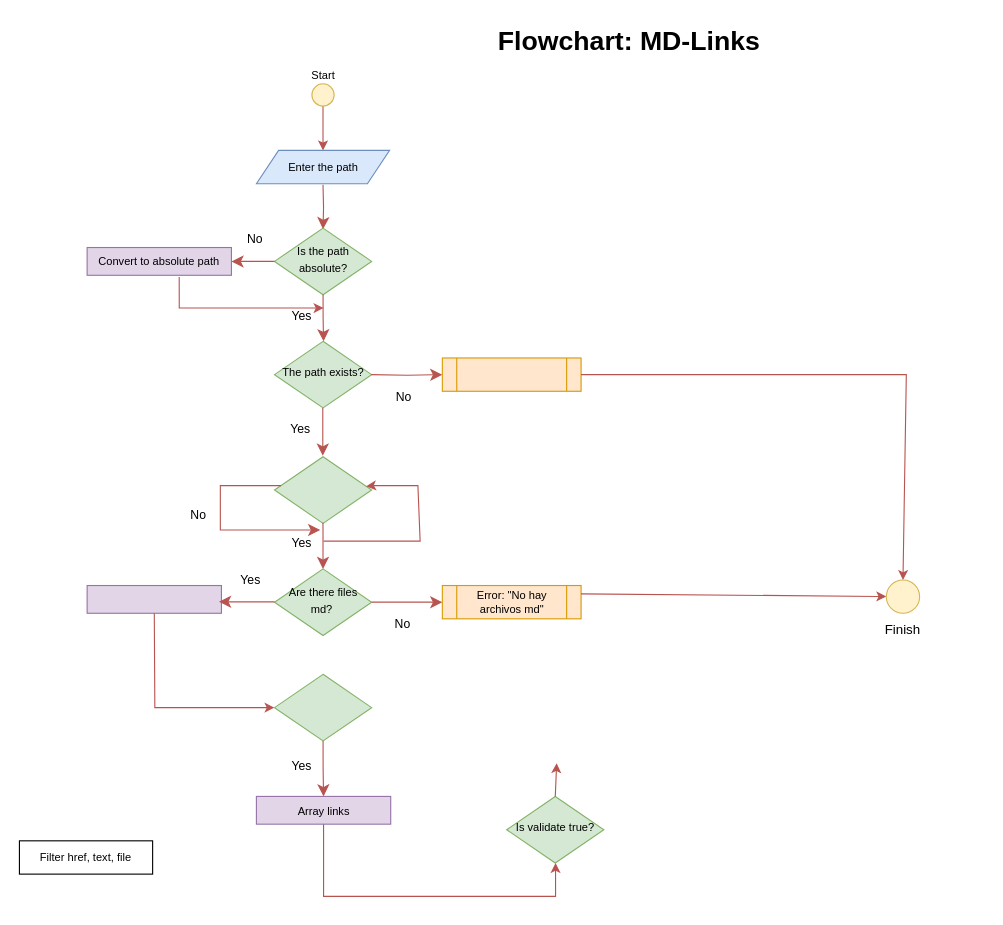
Image size: 1003x925. Some labels were removed from this diagram. The shapes that lost their labels are listed below. From the top down, each one's centre as x and y in pixels, then its label:
At point (511, 374): "Error".
At point (322, 489): "Is directory?".
At point (153, 598): "Open and read file".
At point (322, 707): "Are the links?".
